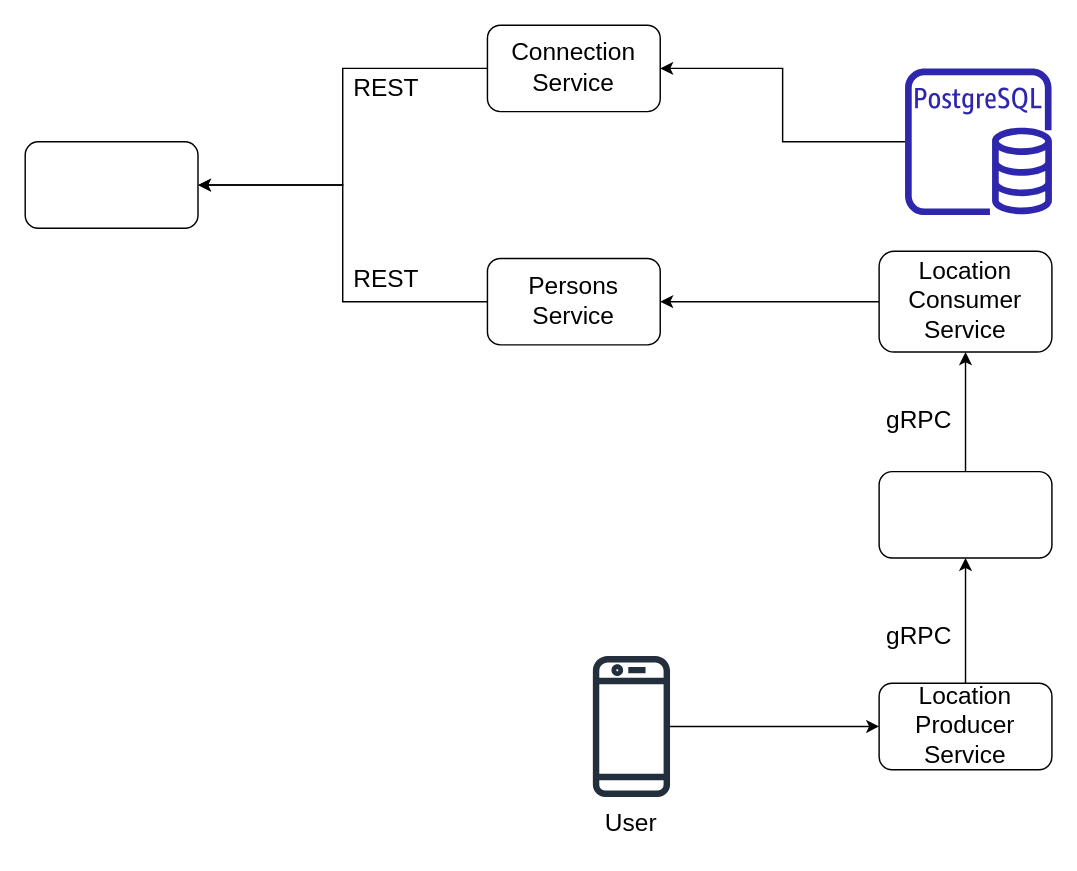
This 1077x871 diagram has some shape labels left out. The shapes that lost their labels are listed below. From the top down, each one's centre as x and y in pixels, then its label:
[111,184]: Front-end Service
[965,514]: Kafka Service
